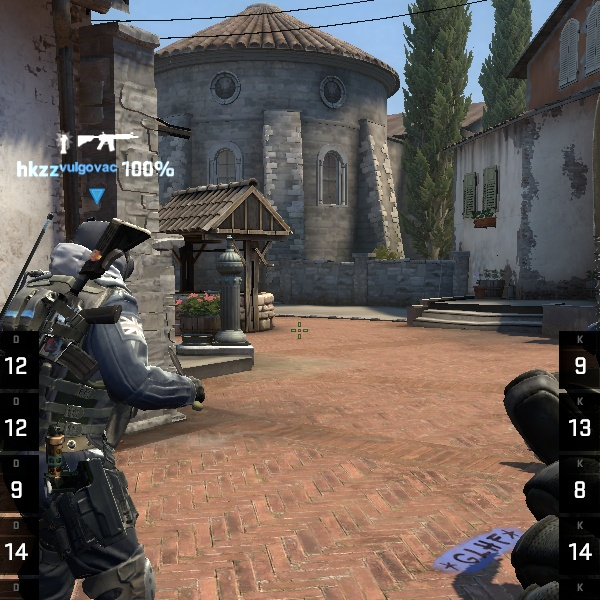ct_body: (3, 217, 199, 600)
ct_head: (41, 212, 152, 324)
